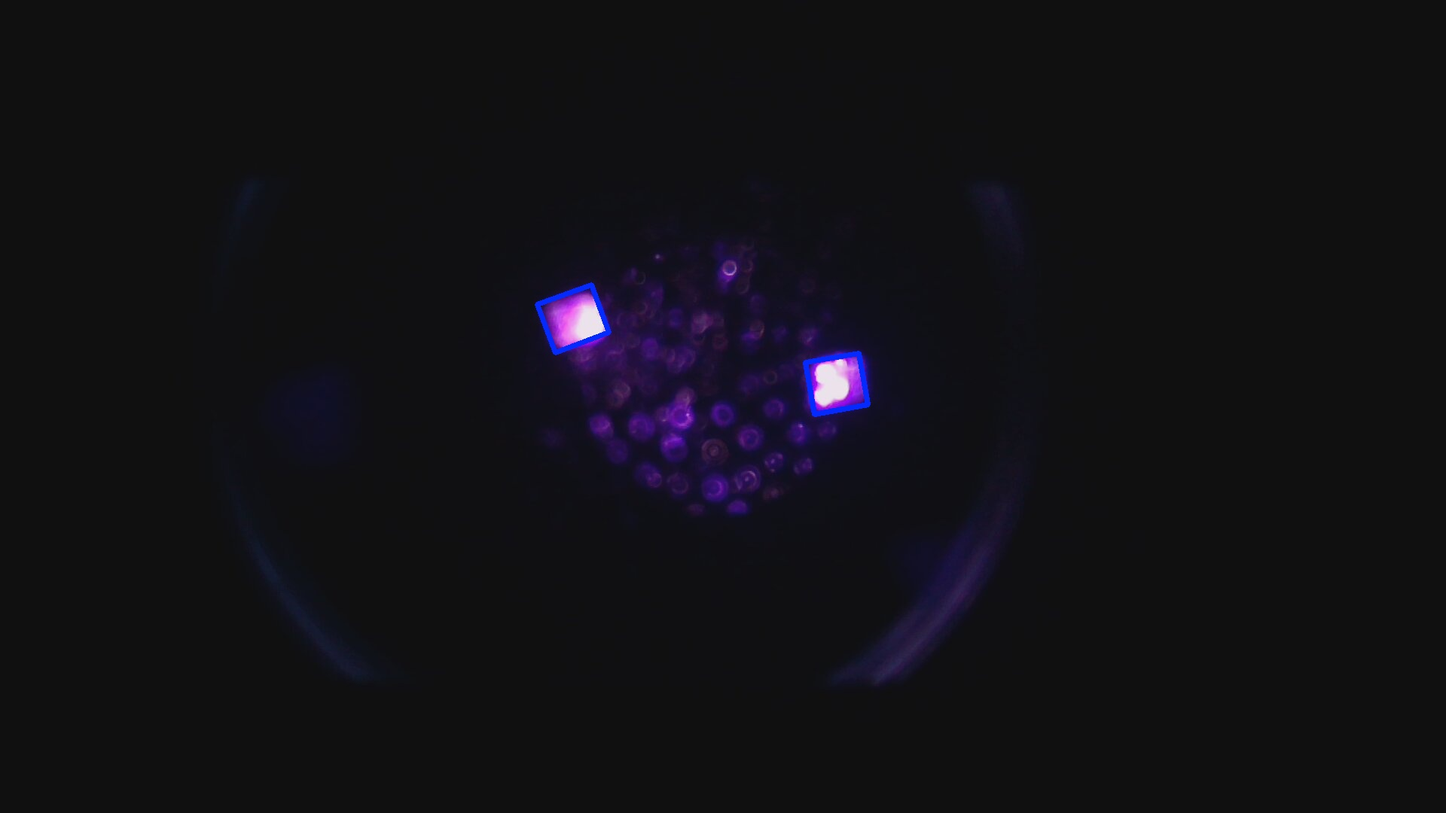plastic: (538, 284, 609, 353), (805, 353, 869, 414)
